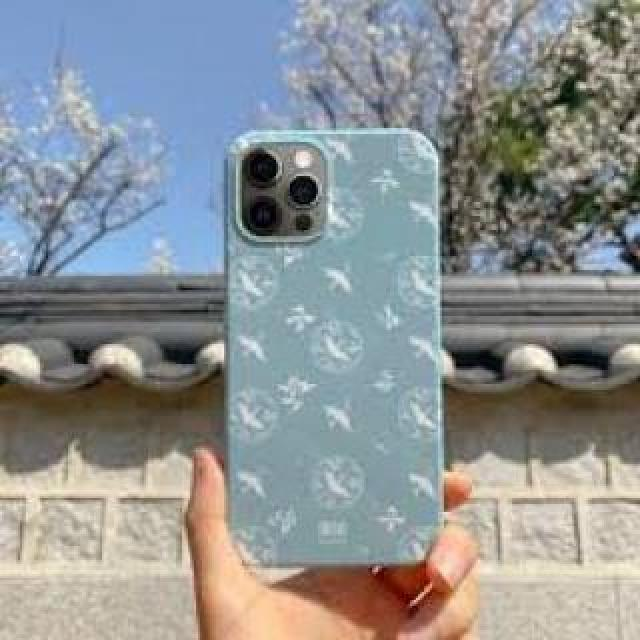smart phone: (215, 107, 462, 595)
